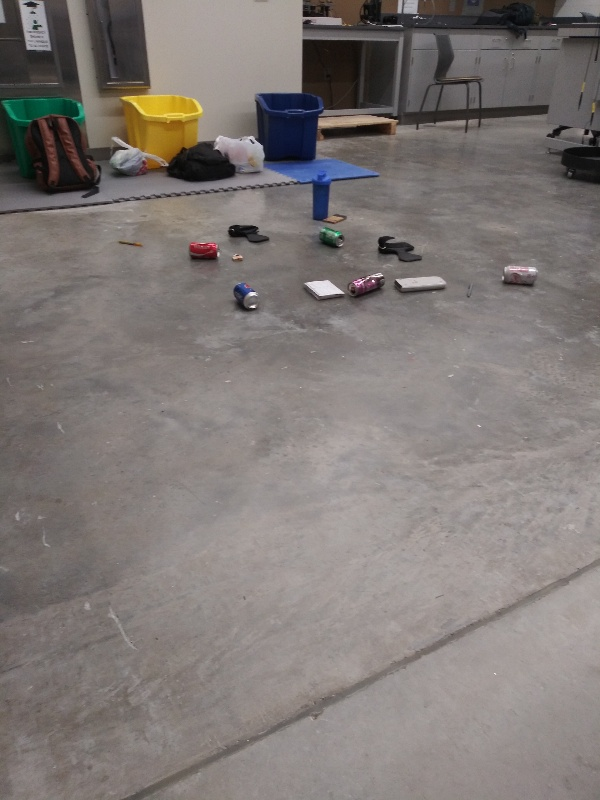can: (346, 271, 387, 299), (229, 278, 261, 313), (500, 263, 541, 289), (186, 239, 221, 259), (316, 226, 346, 249)
